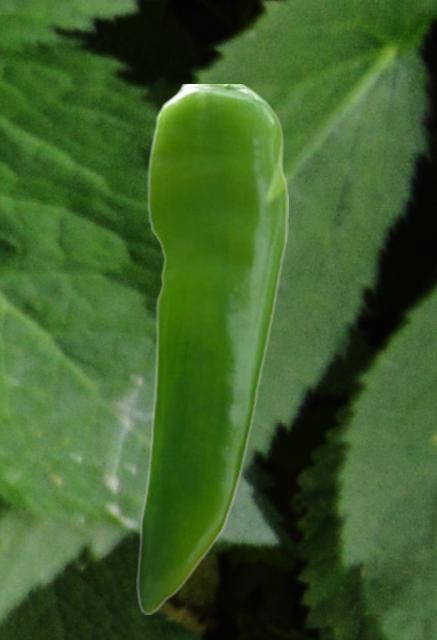green_chili: (136, 84, 287, 613)
